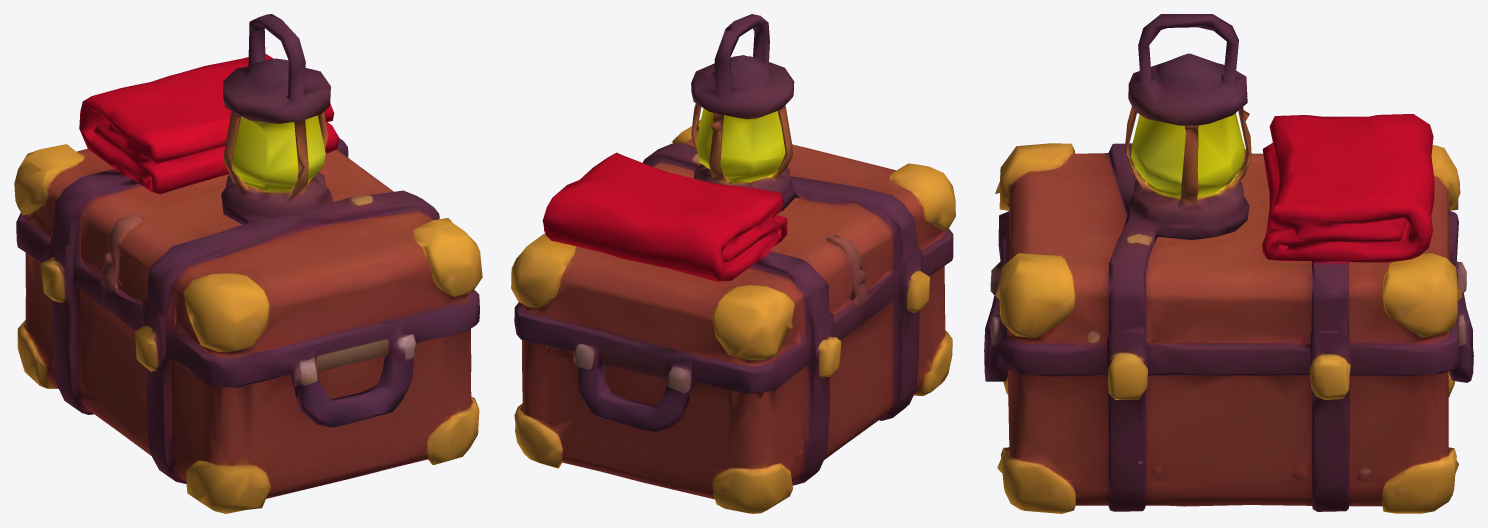
The model's file is travel_trunk-KKjlUIQG.glb.
The picture shows the model from 3 angles, left to right: view 1: azimuth 30°, elevation 25°; view 2: azimuth 150°, elevation 25°; view 3: azimuth 270°, elevation 25°; orthographic projection. The views are drawn at different scales.
Visible parts, largest first — view 1: tripo_node_70860444-ec69-4310-9fce-b391bd26b604; view 2: tripo_node_70860444-ec69-4310-9fce-b391bd26b604; view 3: tripo_node_70860444-ec69-4310-9fce-b391bd26b604.
Boxes of the visible parts, bbox=[...] form: tripo_node_70860444-ec69-4310-9fce-b391bd26b604: bbox=[14, 14, 482, 513]; tripo_node_70860444-ec69-4310-9fce-b391bd26b604: bbox=[511, 14, 955, 513]; tripo_node_70860444-ec69-4310-9fce-b391bd26b604: bbox=[984, 14, 1473, 513].
Bounding box in the file's own units: 0.7904 × 0.9936 × 1.
Materials: 1 (1 with a texture image).
